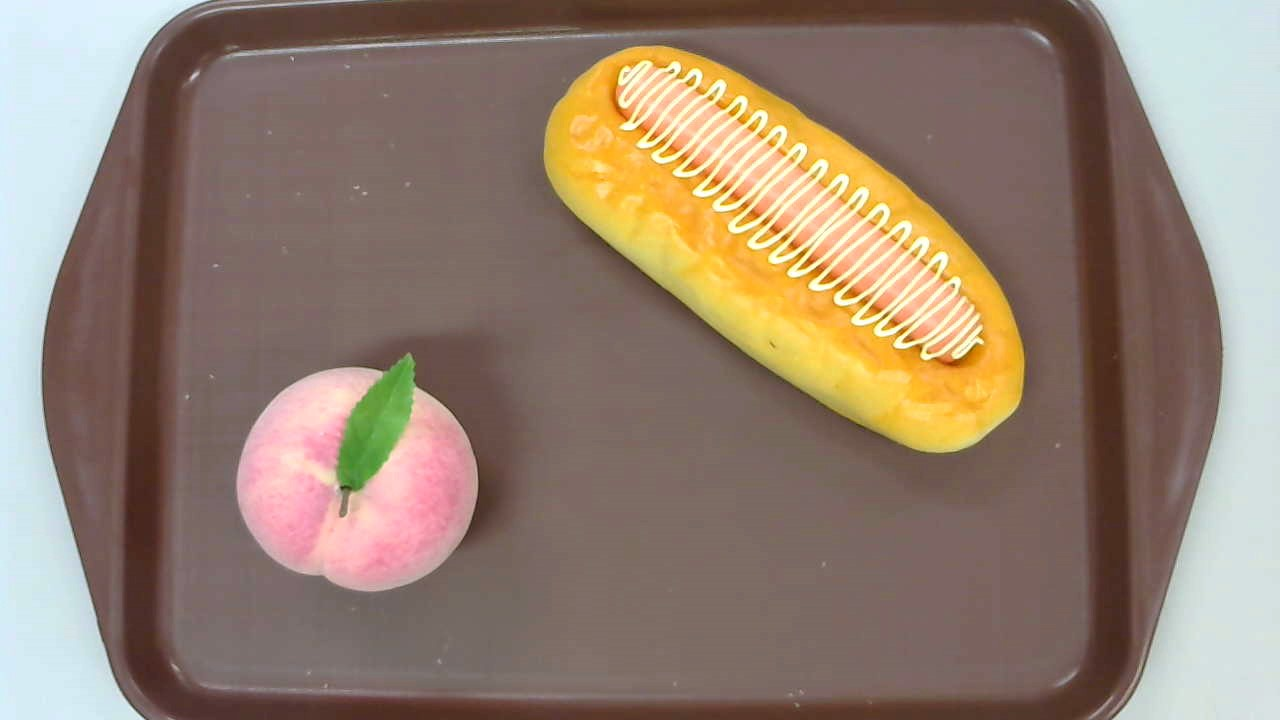hot dog: (541, 46, 1025, 453)
peach: (236, 353, 477, 592)
